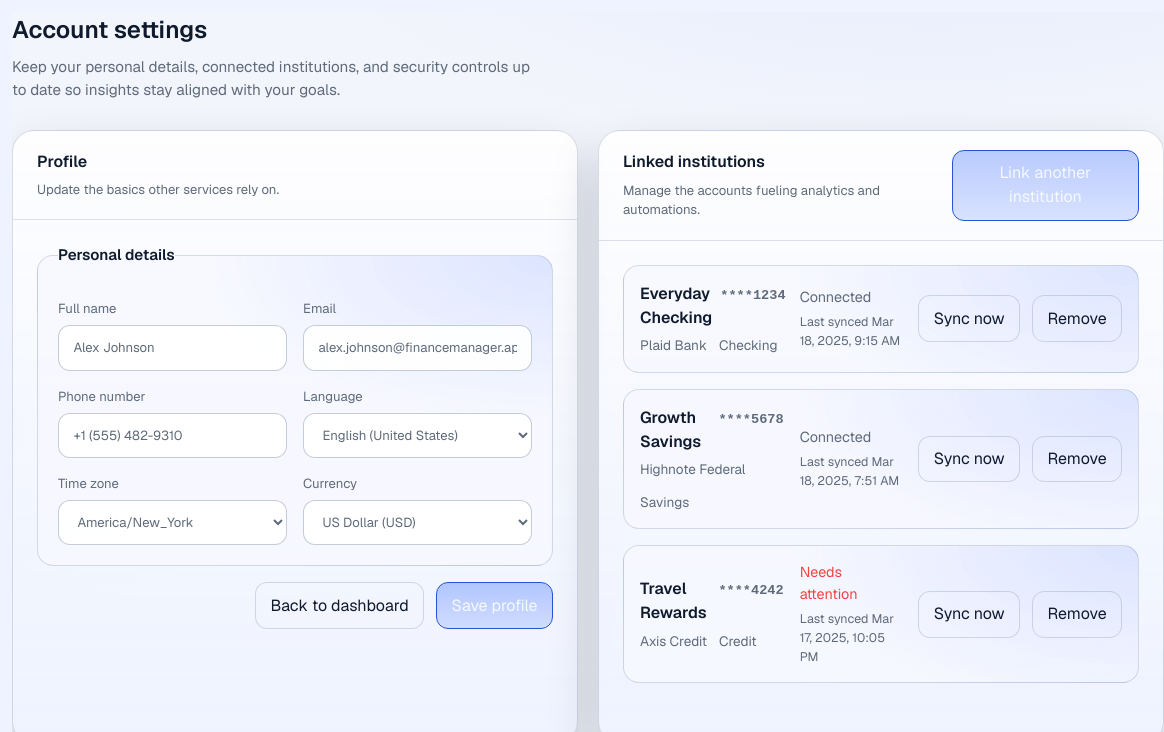
SettingsSection › syncs accounts and surfaces completion feedback
Click the button "Sync now" in the row of "Everyday Checking".
click(969, 319)  # box left=918, top=295, right=1020, bottom=342
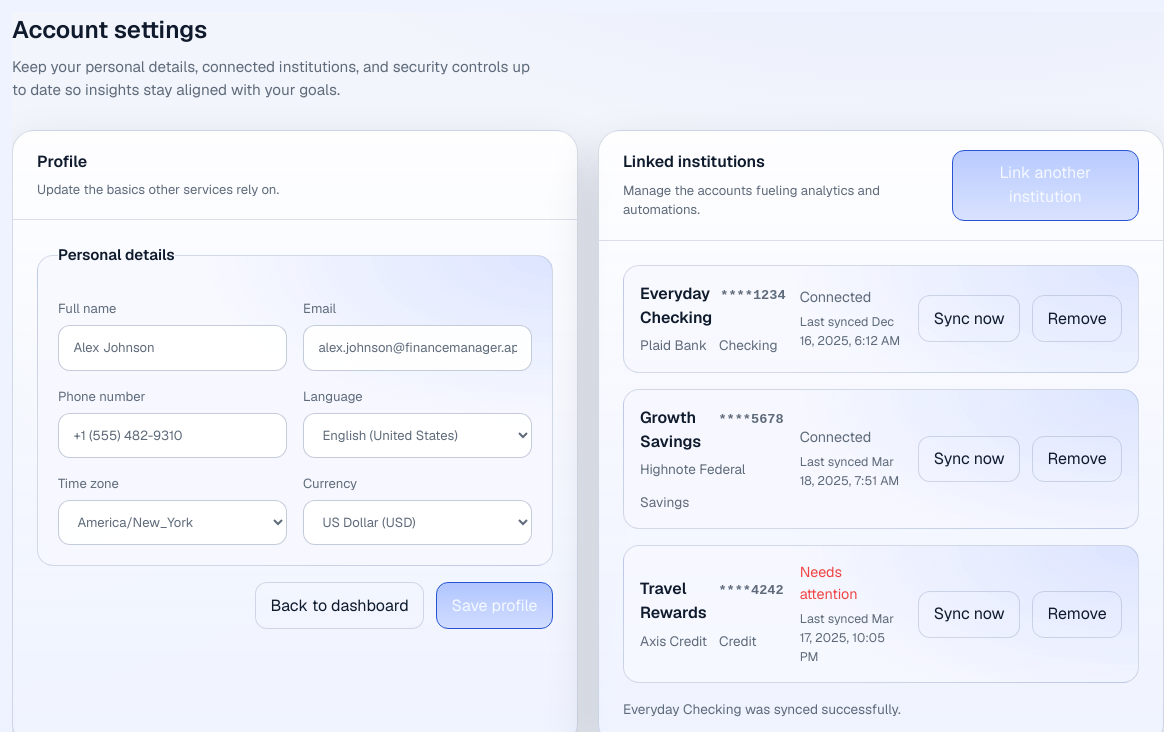
Expected: the text "Everyday Checking was synced successfully." is shown, left=623, top=700, right=901, bottom=718
